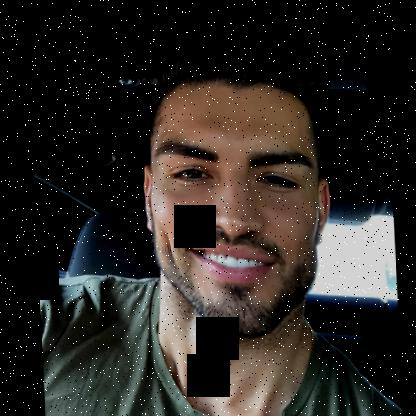Male: (136, 75, 332, 335)
